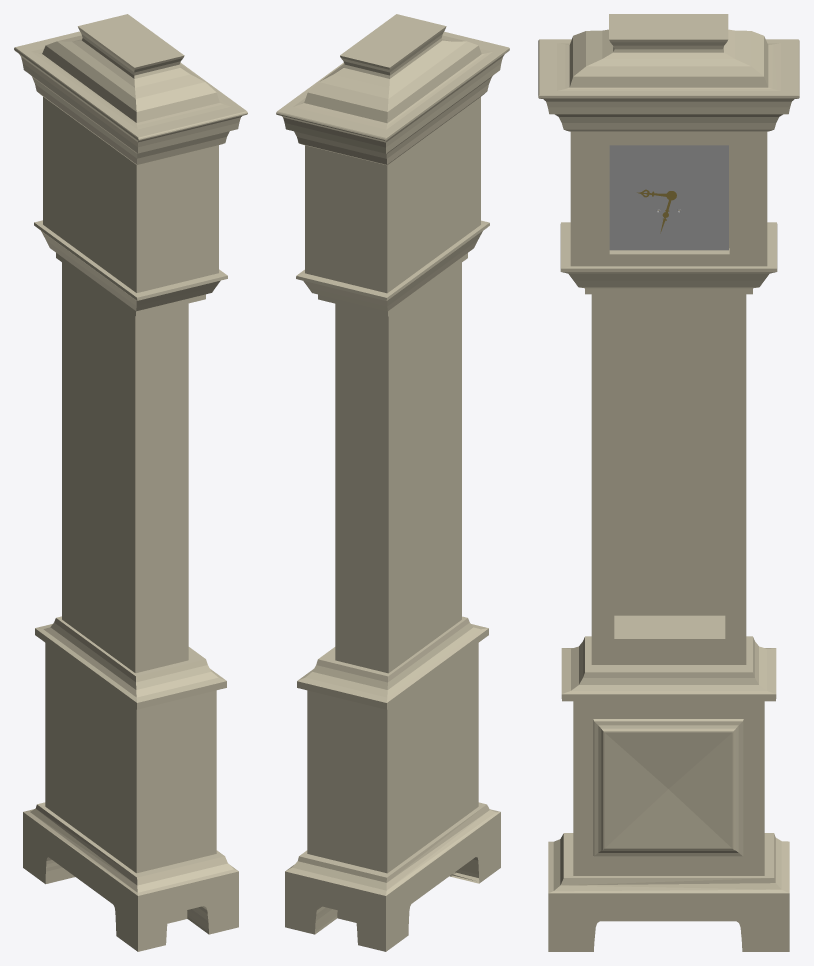
3 views of the same model, side by side, from view 1: azimuth 30°, elevation 25°; view 2: azimuth 150°, elevation 25°; view 3: azimuth 270°, elevation 25° (orthographic). The views are drawn at different scales.
Visible parts, largest first — view 1: $$$DUMMY.Group01; view 2: $$$DUMMY.Group01; view 3: $$$DUMMY.Group01.
Boxes of the visible parts, x1,y1,x2,y2 form: $$$DUMMY.Group01: (14,14,247,951); $$$DUMMY.Group01: (276,14,509,951); $$$DUMMY.Group01: (538,14,799,951).
Bounding box in the file's own units: 55.4 × 415 × 109.
